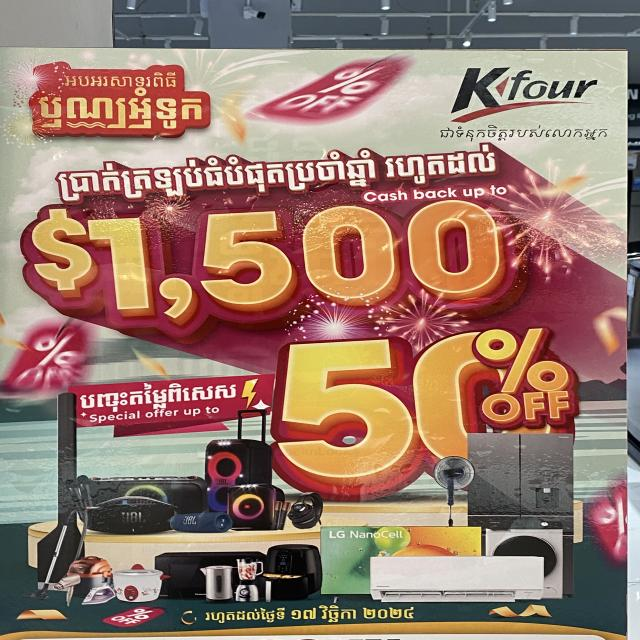1: (49, 140, 507, 216)
3: (203, 604, 418, 631)
524: (80, 193, 524, 331)
764: (263, 329, 427, 517)
Yolov11kh: (25, 200, 103, 309), (29, 88, 208, 134), (467, 324, 581, 395), (69, 377, 245, 418), (437, 123, 613, 143), (62, 67, 179, 91)
